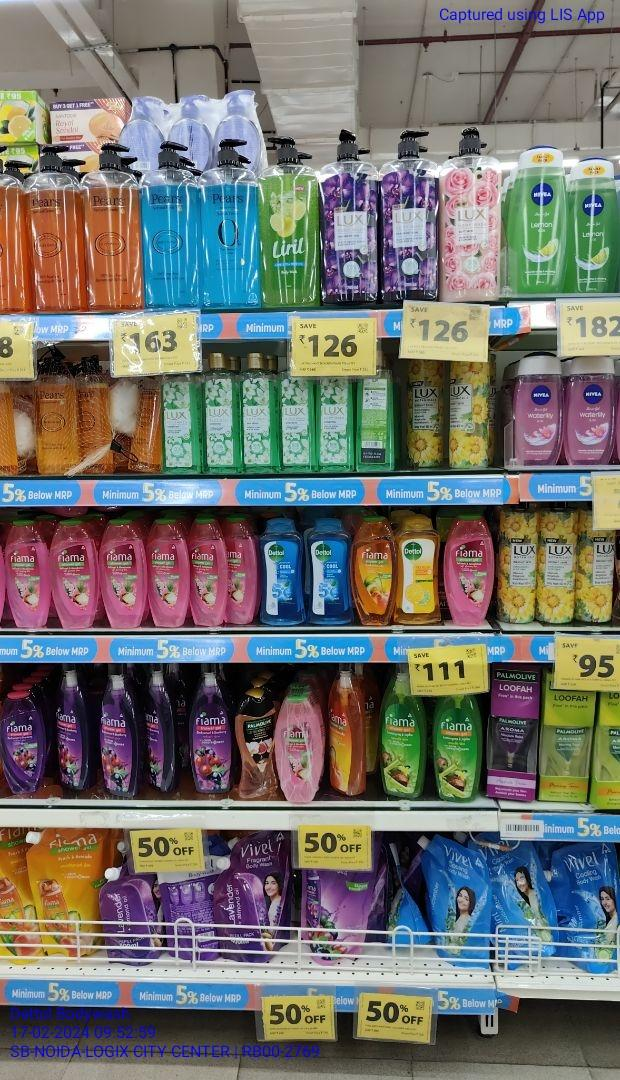Dettol_Bodywash_Cool: (262, 520, 305, 626), (311, 520, 353, 626)
Dettol_Bodywash_Refresh: (395, 519, 441, 626)
Fiama_Shower_Gel_Patchouli_and_Macadamia_250ML: (445, 516, 493, 626), (100, 521, 144, 628), (52, 521, 95, 628), (5, 521, 47, 628), (149, 521, 190, 628), (277, 693, 317, 801), (192, 519, 227, 628), (229, 517, 256, 627)
Fiama_Shower_Gel_Peach_and_Avocado_250ML: (354, 519, 393, 625)
Lux_Body_Wash_Skin_Detox_Freesia_Scent_and_Alove_Vera_245ML: (239, 351, 276, 467), (202, 350, 236, 472), (159, 373, 199, 474), (279, 372, 315, 472), (318, 378, 354, 473)
Nivea_Shower_Gel_Lemon_and_Oil_250ML: (511, 147, 565, 291), (567, 158, 620, 290)
Nivea_Shower_Gel_Waterlily_and_Oil_250ML: (567, 357, 614, 466), (516, 355, 560, 464)
Palmolive_Luminous_Oils_With_White_Orchid_Shower_Gel_250ML: (236, 692, 274, 797)
